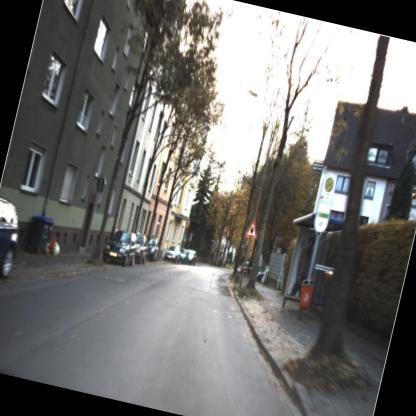danger: (242, 217, 262, 242)
